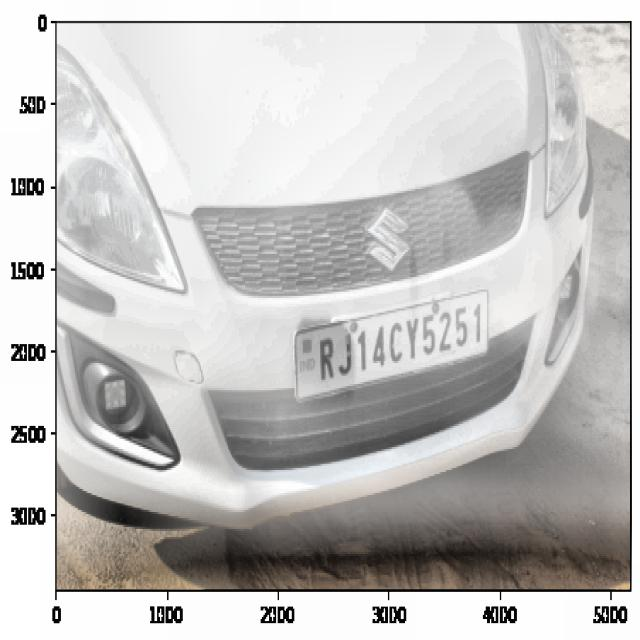license_plate: (308, 300, 486, 387)
